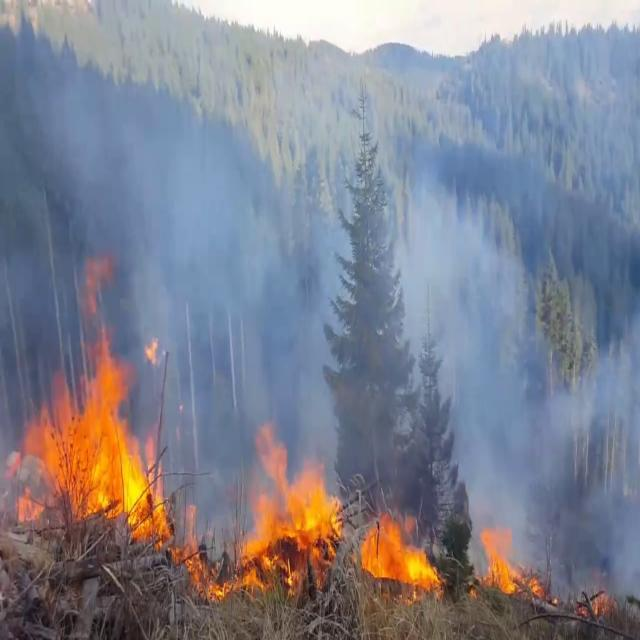Fire: (15, 328, 166, 538), (238, 417, 344, 585), (357, 501, 443, 595), (473, 517, 541, 601)
Smoke: (1, 0, 341, 498), (371, 1, 640, 595)
